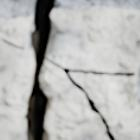broken_brick: (50, 6, 139, 139), (42, 63, 107, 139), (0, 42, 27, 139), (0, 17, 28, 43)
crack: (0, 0, 137, 139)
